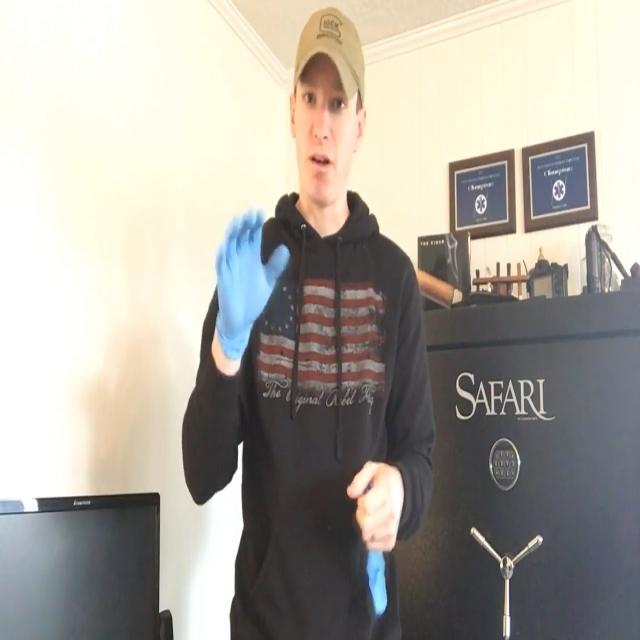Gloves: (218, 215, 290, 354)
